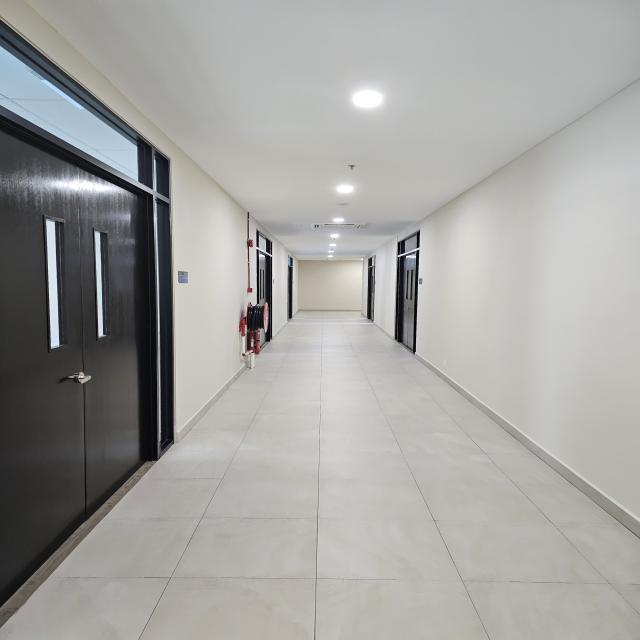door: (0, 129, 167, 582), (394, 252, 424, 351)
footpath: (188, 379, 536, 640)
obstacle: (236, 299, 271, 371)
